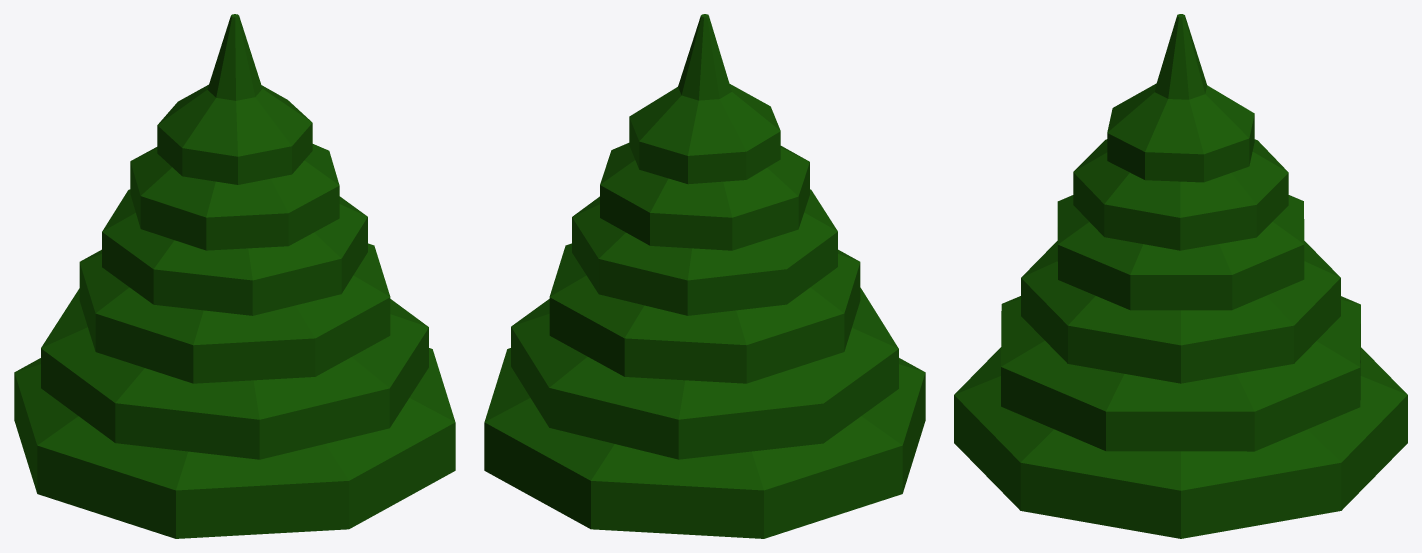
File: tree.fbx
The picture shows the model from 3 angles, left to right: view 1: azimuth 30°, elevation 25°; view 2: azimuth 150°, elevation 25°; view 3: azimuth 270°, elevation 25°; orthographic projection.
Parts seen in each view (by area): view 1: Cylinder.005; view 2: Cylinder.005; view 3: Cylinder.005.
Boxes of the visible parts, box(x1,y1,x2,y2) form: Cylinder.005: box(14, 14, 455, 538); Cylinder.005: box(484, 14, 925, 538); Cylinder.005: box(954, 14, 1407, 538).
Size of the model in its own units: 585 by 651 by 585.
